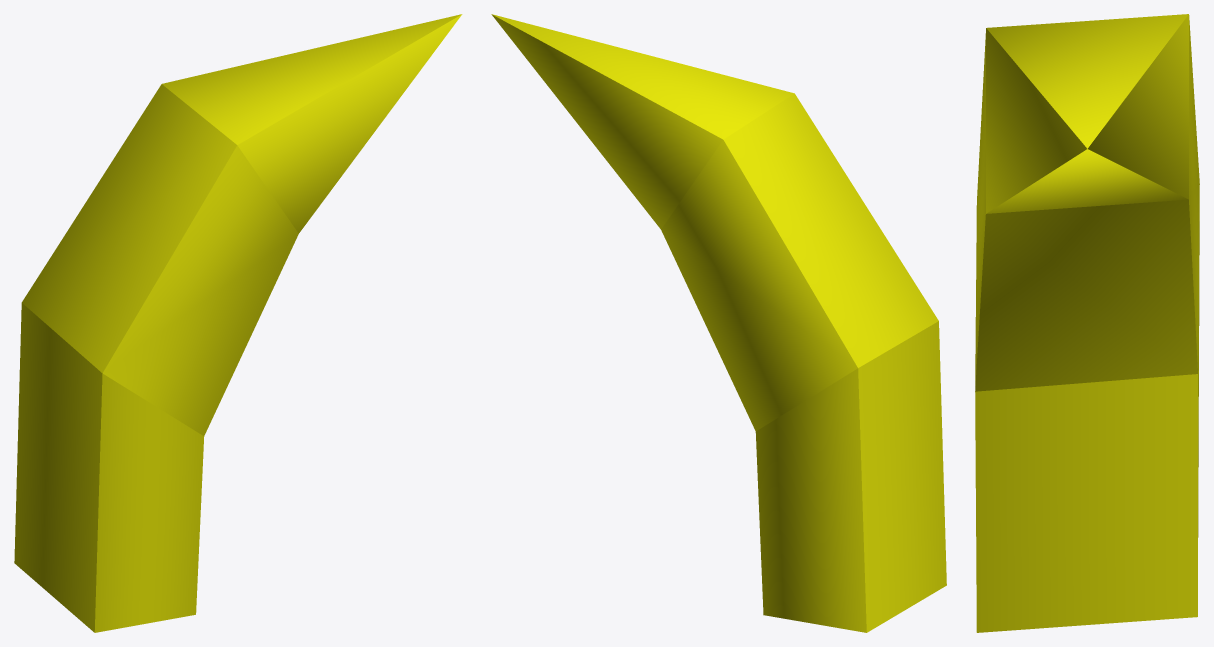
3 renders of one model, left to right at view 1: azimuth 30°, elevation 25°; view 2: azimuth 150°, elevation 25°; view 3: azimuth 270°, elevation 25°, orthographic. The views are drawn at different scales.
Visible parts, largest first — view 1: decor_002; view 2: decor_002; view 3: decor_002.
Boxes of the visible parts, <box> form: decor_002: <box>14,14,462,632</box>; decor_002: <box>491,14,946,632</box>; decor_002: <box>975,14,1199,632</box>.
Size of the model in its own units: 0.5384 by 0.626 by 0.1842.
Materials: 1 (1 with a texture image).
